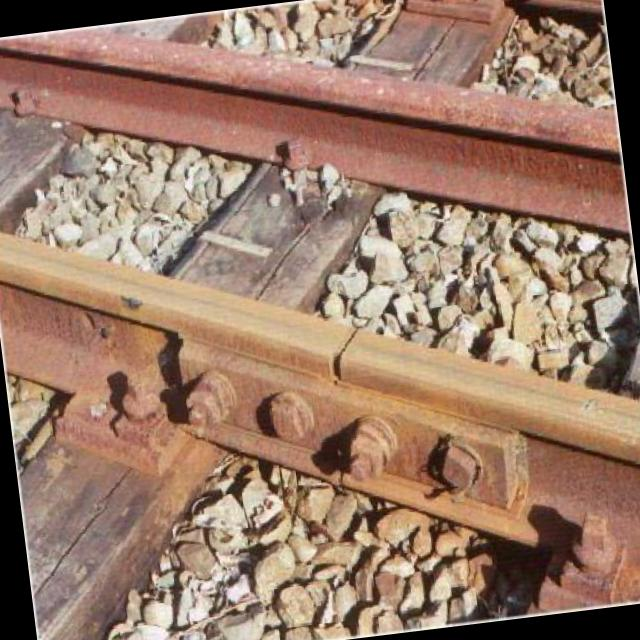defective: (0, 197, 640, 499)
